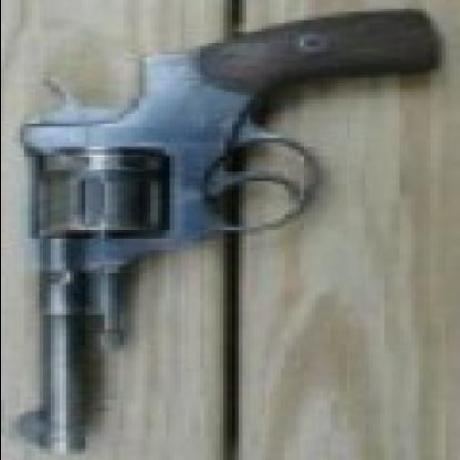weapon: (12, 8, 438, 452)
